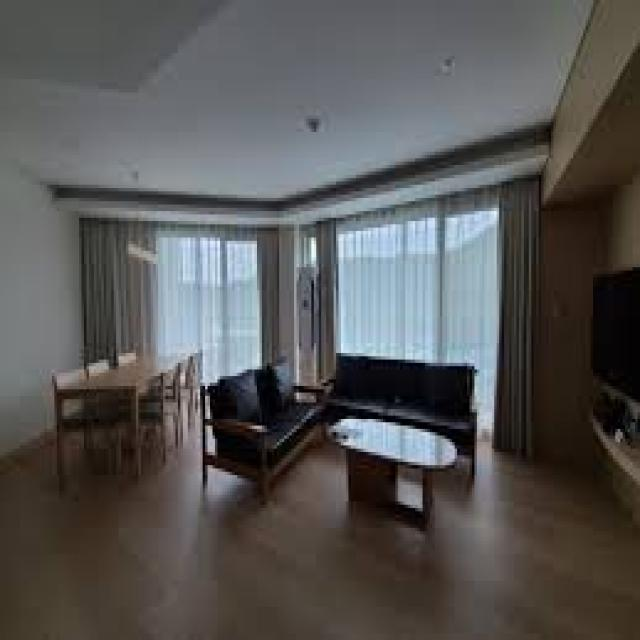Sofa: (327, 352, 485, 470), (198, 356, 324, 499)
Table: (53, 350, 194, 487), (323, 416, 458, 533)
tv: (585, 263, 640, 392)
window: (87, 221, 276, 348), (318, 225, 509, 342)
